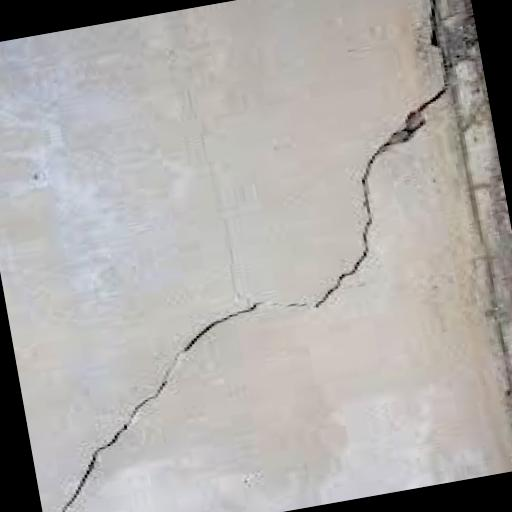spalling: (49, 84, 443, 512)
